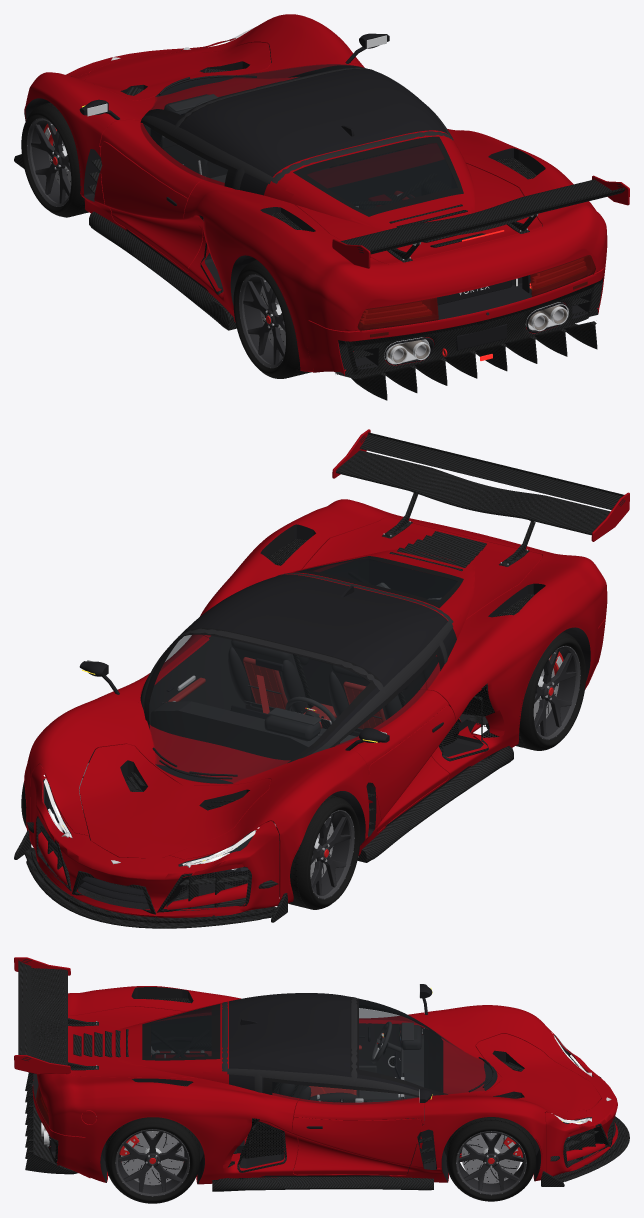
Rendered from vortex.glb.
3 views of the same model, one above another, from view 1: azimuth 30°, elevation 25°; view 2: azimuth 150°, elevation 25°; view 3: azimuth 270°, elevation 25° (orthographic). The views are drawn at different scales.
Parts seen in each view (by area): view 1: Body, Rear_Bumper, Cabin.006, Body.005, Spoiler, Windows_GlassRear, Hood, t.020, t.018, Windows_Glass, Taillights_lens, Exhaust_Tip (+4 smaller); view 2: Body, Windows_Glass, Front_Bumper, Spoiler, Hood, Cabin.006, Body.005, Interior_Dashboard, t.018, t.020, Interior_Seat_Passenger, Body.004 (+6 smaller); view 3: Body, Body.004, Windows_Glass, Cabin.006, Spoiler, Hood, Front_Bumper, t.021, t.019, Rear_Bumper, Windows_GlassRear, Body.005 (+10 smaller).
Boxes of the visible parts, x1=… form: Body: x1=24, y1=14, x2=607, y2=371; Rear_Bumper: x1=303, y1=263, x2=605, y2=400; Cabin.006: x1=285, y1=143, x2=542, y2=263; Body.005: x1=99, y1=120, x2=207, y2=272; Spoiler: x1=332, y1=175, x2=629, y2=268; Windows_GlassRear: x1=307, y1=143, x2=457, y2=210; Hood: x1=84, y1=42, x2=271, y2=100; t.020: x1=233, y1=260, x2=311, y2=378; t.018: x1=21, y1=102, x2=88, y2=217; Windows_Glass: x1=150, y1=64, x2=363, y2=185; Taillights_lens: x1=357, y1=255, x2=595, y2=330; Exhaust_Tip: x1=387, y1=305, x2=567, y2=363; Body: x1=24, y1=499, x2=607, y2=902; Windows_Glass: x1=149, y1=635, x2=439, y2=783; Front_Bumper: x1=14, y1=764, x2=287, y2=928; Spoiler: x1=332, y1=429, x2=629, y2=541; Hood: x1=79, y1=744, x2=271, y2=858; Cabin.006: x1=297, y1=517, x2=542, y2=621; Body.005: x1=328, y1=690, x2=455, y2=831; Interior_Dashboard: x1=150, y1=701, x2=321, y2=760; t.018: x1=276, y1=795, x2=360, y2=909; t.020: x1=486, y1=631, x2=586, y2=750; Interior_Seat_Passenger: x1=228, y1=639, x2=313, y2=713; Body.004: x1=112, y1=635, x2=209, y2=724; Body: x1=33, y1=986, x2=591, y2=1191; Body.004: x1=292, y1=1097, x2=424, y2=1175; Windows_Glass: x1=272, y1=999, x2=496, y2=1100; Cabin.006: x1=66, y1=1005, x2=211, y2=1078; Spoiler: x1=14, y1=957, x2=70, y2=1074; Hood: x1=475, y1=1033, x2=601, y2=1112; Front_Bumper: x1=541, y1=1027, x2=629, y2=1186; t.021: x1=105, y1=1117, x2=199, y2=1203; t.019: x1=446, y1=1117, x2=535, y2=1201; Rear_Bumper: x1=25, y1=1072, x2=108, y2=1178; Windows_GlassRear: x1=151, y1=1007, x2=211, y2=1058; Body.005: x1=359, y1=1012, x2=424, y2=1078.
Size of the model in its own units: 2.19 by 1.28 by 4.95.
37 materials, 6 textured.
